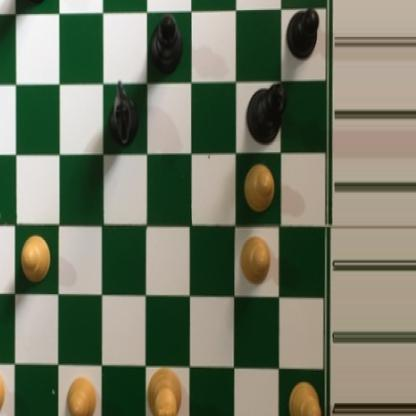black-bishop: (146, 13, 184, 78)
black-king: (244, 80, 287, 146)
black-knight: (107, 77, 140, 150)
black-pawn: (284, 4, 320, 61)
black-rook: (12, 0, 54, 4)
white-king: (145, 365, 183, 416)
white-pawn: (237, 233, 273, 287), (239, 159, 274, 214), (20, 231, 54, 285), (59, 373, 97, 416), (287, 382, 322, 416), (0, 365, 6, 416)
